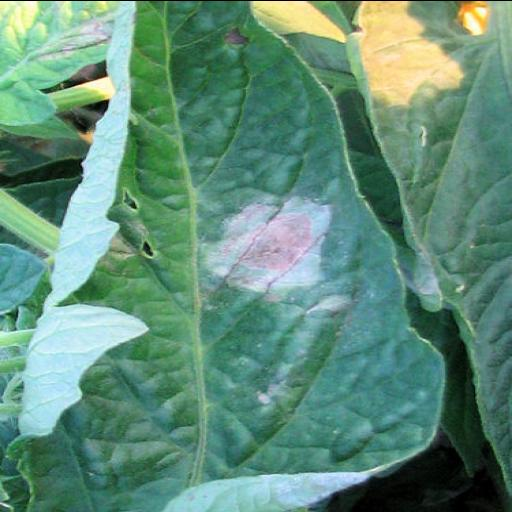Late Blight: (12, 0, 448, 512)
